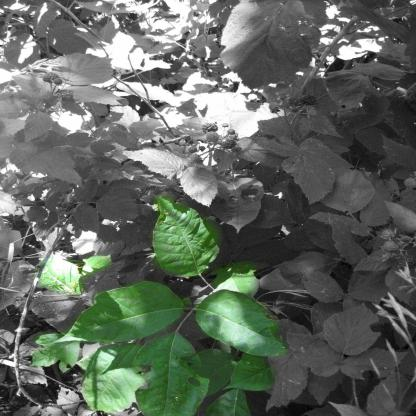raspberry leaf: (52, 282, 188, 348), (196, 285, 293, 359), (151, 189, 217, 277)
